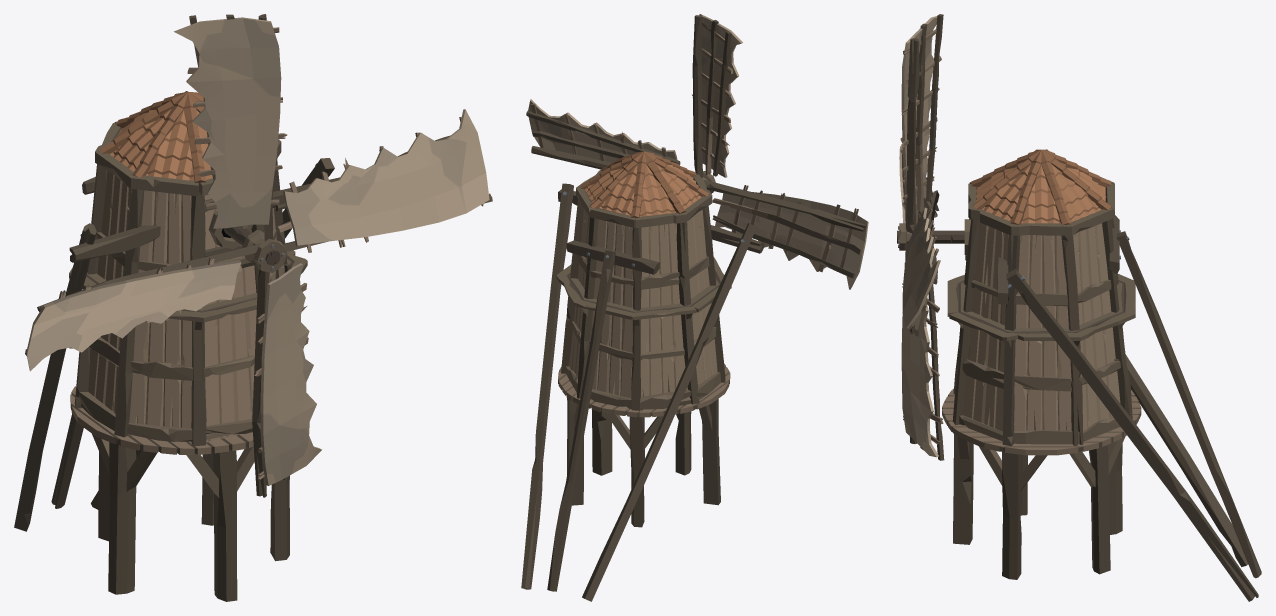
The model's file is windmill.glb.
The picture shows the model from 3 angles, left to right: view 1: azimuth 30°, elevation 25°; view 2: azimuth 150°, elevation 25°; view 3: azimuth 270°, elevation 25°; orthographic projection. The views are drawn at different scales.
Visible parts, largest first — view 1: SM_Bld_Windmill_01; view 2: SM_Bld_Windmill_01; view 3: SM_Bld_Windmill_01.
Boxes of the visible parts, x1,y1,x2,y2 form: SM_Bld_Windmill_01: (14, 14, 492, 601); SM_Bld_Windmill_01: (521, 14, 868, 601); SM_Bld_Windmill_01: (897, 14, 1261, 601).
Size of the model in its own units: 9.48 by 12.95 by 7.79.
Materials: 2 (2 with a texture image).
